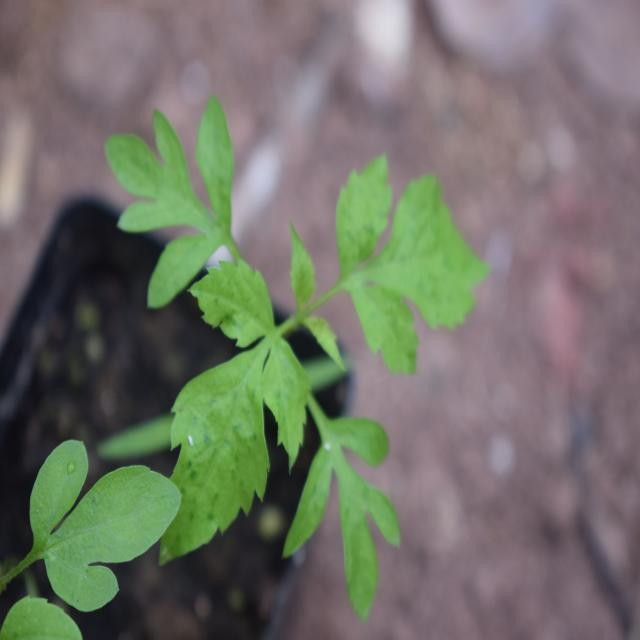Bidens pilosa: (146, 79, 471, 585)
